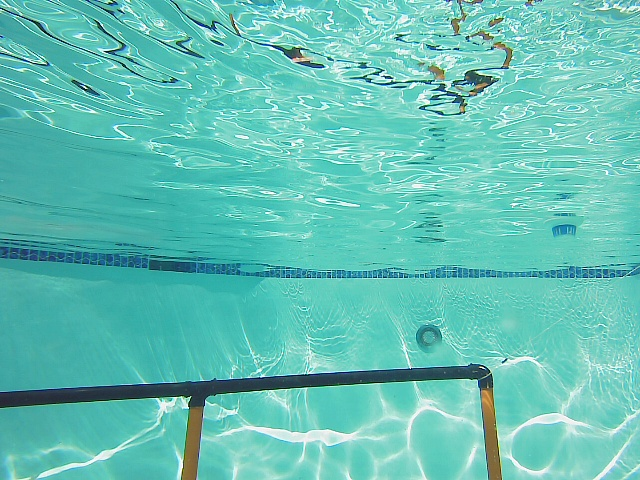Gate: (477, 384, 505, 480), (178, 399, 208, 480)
